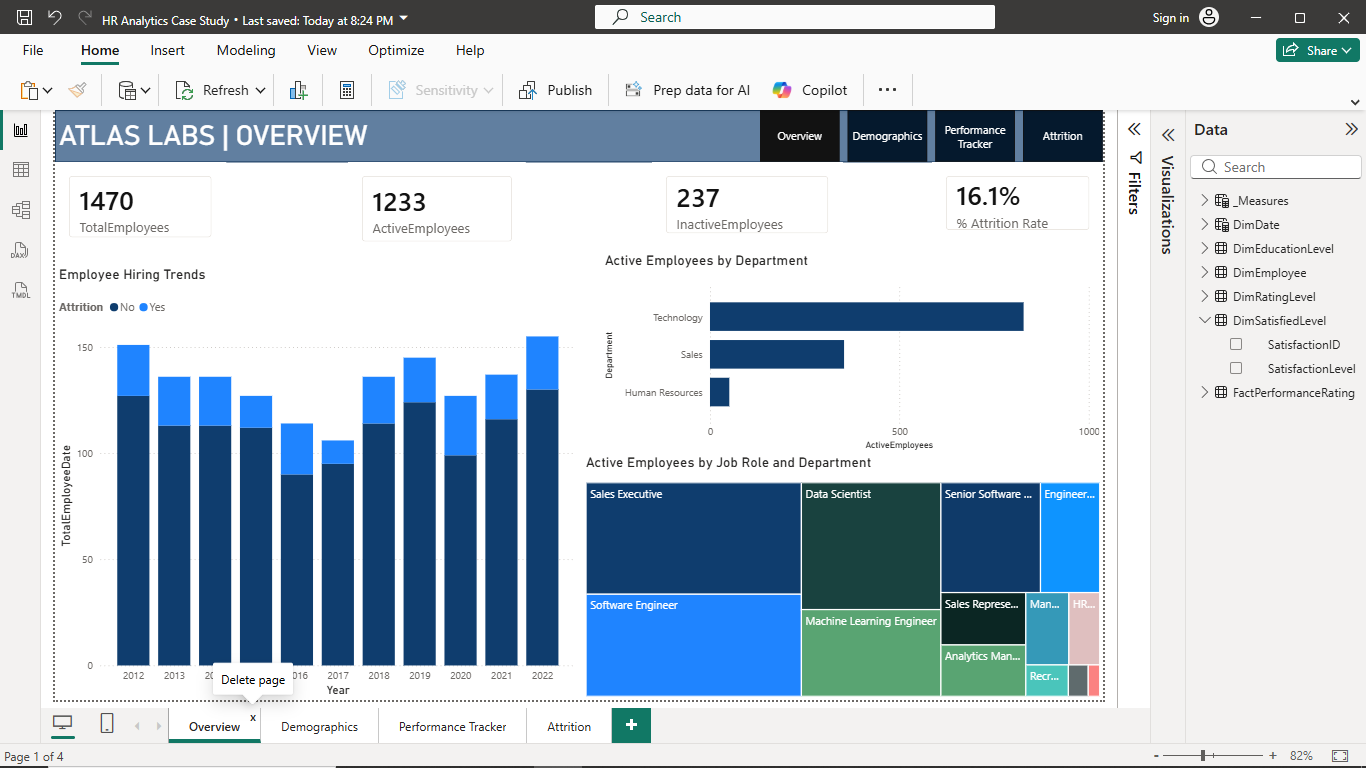

This screenshot's page, from the dashboard's own definition file:
{"tool":"powerbi","page":{"name":"Overview","canvas":[1280,720],"ordinal":0},"visuals":[{"type":"shape","box":[0,0,1280,63.8],"z":0},{"type":"cardVisual","fields":{"Data":["_Measures.TotalEmployees"]},"box":[0,63.4,208.6,110],"z":1000},{"type":"cardVisual","fields":{"Data":["_Measures.ActiveEmployees"]},"box":[358.1,63.4,217.1,114.2],"z":2000},{"type":"cardVisual","fields":{"Data":["_Measures.InactiveEmployees"]},"box":[728.8,63.4,232.6,104.3],"z":3000},{"type":"cardVisual","fields":{"Data":["_Measures.% Attrition Rate"]},"box":[1070,63.4,210,100.8],"z":4000},{"type":"columnChart","title":"Employee Hiring Trends","fields":{"Category":["DimDate.Date.Variation.Date Hierarchy.Year","DimDate.Date.Variation.Date Hierarchy.Quarter","DimDate.Date.Variation.Date Hierarchy.Month","DimDate.Date.Variation.Date Hierarchy.Day"],"Y":["_Measures.TotalEmployeeDate"],"Series":["DimEmployee.Attrition"]},"box":[0,189.8,640,530.8],"z":5000},{"type":"clusteredBarChart","title":"Active Employees by Department","fields":{"Y":["_Measures.ActiveEmployees"],"Category":["DimEmployee.Department"]},"box":[666.8,173.4,613.2,246.7],"z":6000},{"type":"treemap","title":"Active Employees by Job Role and Department","fields":{"Values":["_Measures.ActiveEmployees"],"Group":["DimEmployee.Department","DimEmployee.JobRole"]},"box":[643.4,419.9,636.6,300.7],"z":7000},{"type":"textbox","box":[0,6.1,488.8,50.4],"z":8000},{"type":"pageNavigator","box":[860.1,0,419.9,63.8],"z":9000}]}

Visuals, with their boxes on the page's 1280x720 design canvas (x1, y1, x2, y2). These are canvas units, not pixel positions in the 1366x768 screenshot, which may show the page scaled, cropped or inside an application window:
shape: select_region(0, 0, 1280, 64)
cardVisual - _Measures.TotalEmployees: select_region(0, 63, 209, 173)
cardVisual - _Measures.ActiveEmployees: select_region(358, 63, 575, 178)
cardVisual - _Measures.InactiveEmployees: select_region(729, 63, 961, 168)
cardVisual - _Measures.% Attrition Rate: select_region(1070, 63, 1280, 164)
"Employee Hiring Trends" columnChart: select_region(0, 190, 640, 721)
"Active Employees by Department" clusteredBarChart: select_region(667, 173, 1280, 420)
"Active Employees by Job Role and Department" treemap: select_region(643, 420, 1280, 721)
textbox: select_region(0, 6, 489, 56)
pageNavigator: select_region(860, 0, 1280, 64)
